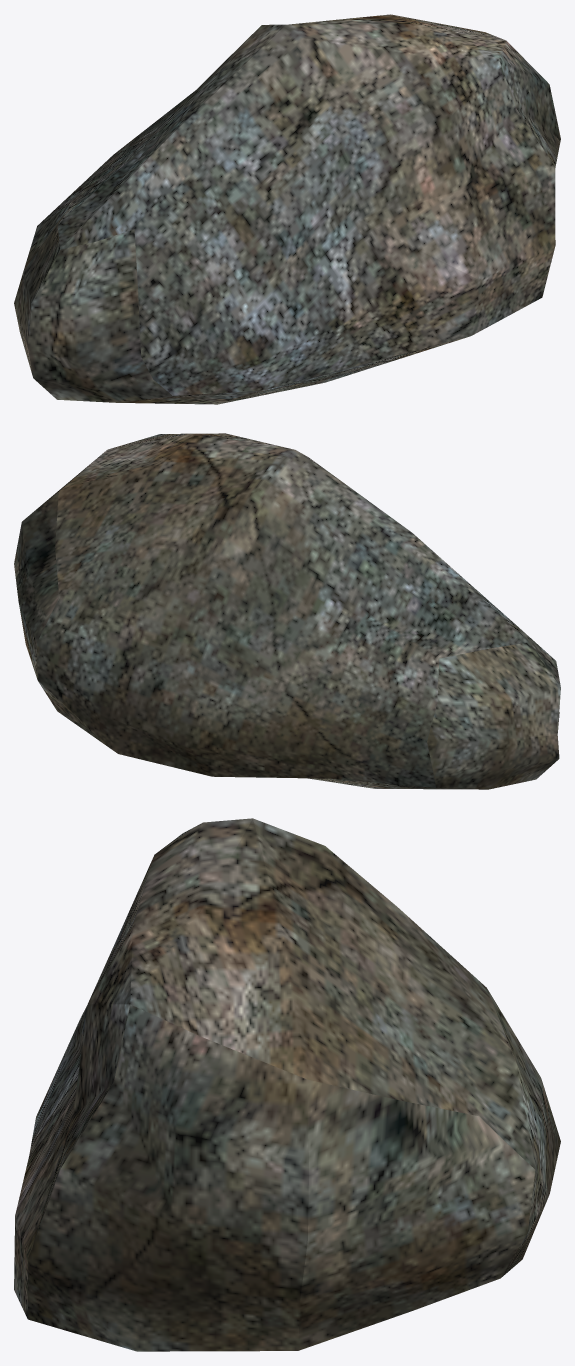
Rendered from Rock06.FBX.
3 renders of one model, top to bottom at view 1: azimuth 30°, elevation 25°; view 2: azimuth 150°, elevation 25°; view 3: azimuth 270°, elevation 25°, orthographic. The views are drawn at different scales.
Parts seen in each view (by area): view 1: LV_TurtleLake_Rock_LakeStone02_SM_KYS; view 2: LV_TurtleLake_Rock_LakeStone02_SM_KYS; view 3: LV_TurtleLake_Rock_LakeStone02_SM_KYS.
Part boxes in pixels (x1,y1,x2,y2): LV_TurtleLake_Rock_LakeStone02_SM_KYS: (14,14,560,404); LV_TurtleLake_Rock_LakeStone02_SM_KYS: (14,433,560,789); LV_TurtleLake_Rock_LakeStone02_SM_KYS: (14,818,560,1351).
Bounding box in the file's own units: 31.91 × 18.03 × 19.25.
